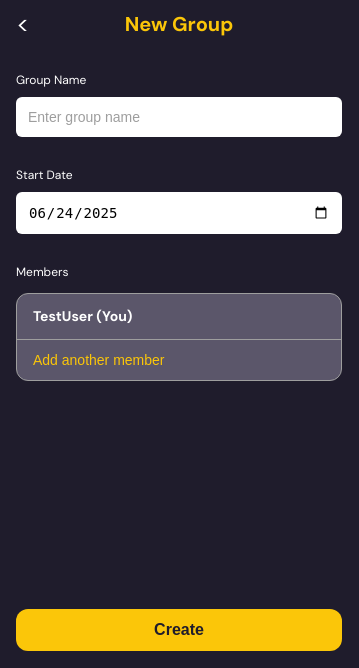
Scenario: NewGroupPage › allows adding a new virtual member
Click the button "Add another member" at [99, 360], box x1=17 y1=340 x2=341 y2=380
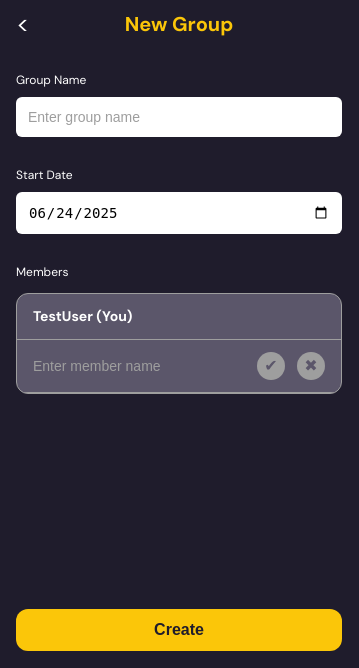
Type "Alice" into the field with placeholder "Enter member name" at [145, 366], box x1=33 y1=358 x2=257 y2=374
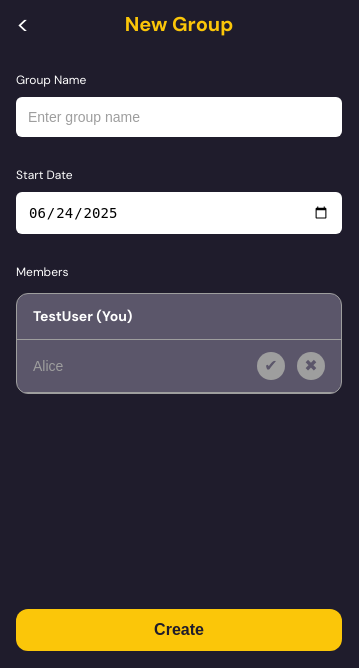
Click the button "✔" at [271, 366], box x1=257 y1=352 x2=285 y2=380
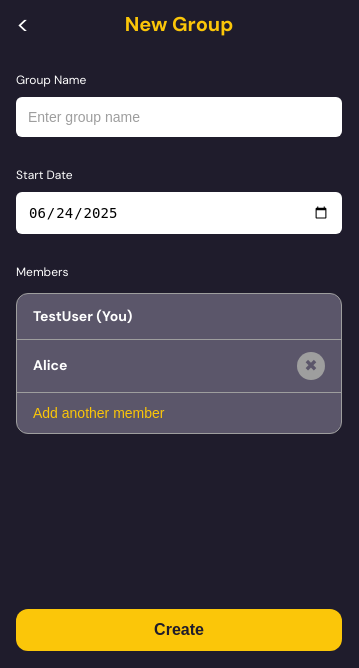
Result: the list item "Alice" is shown at x1=33 y1=356 x2=67 y2=374
